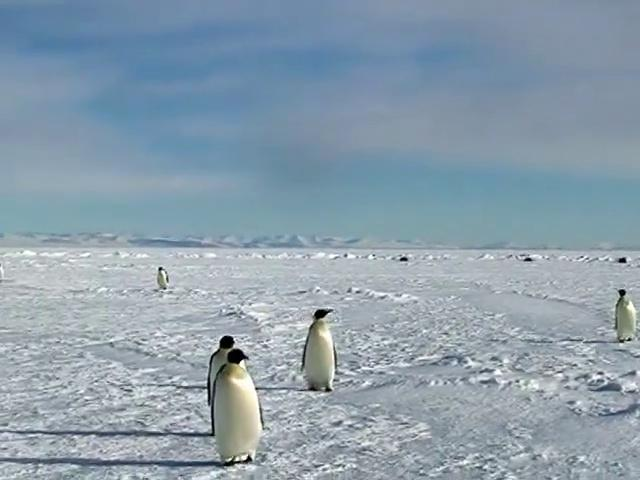animal: (301, 309, 336, 390)
